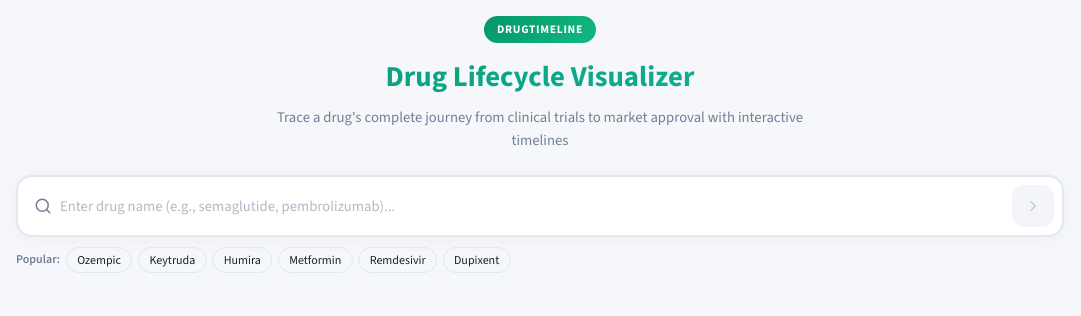
Test: DrugTimelinePage › shows autocomplete suggestions after typing 2 characters
In the dropdown with placeholder "Enter drug name (e.g., semaglutide, pembrolizumab)...": [536, 206] box [60,189,1012,222], type "Pa"
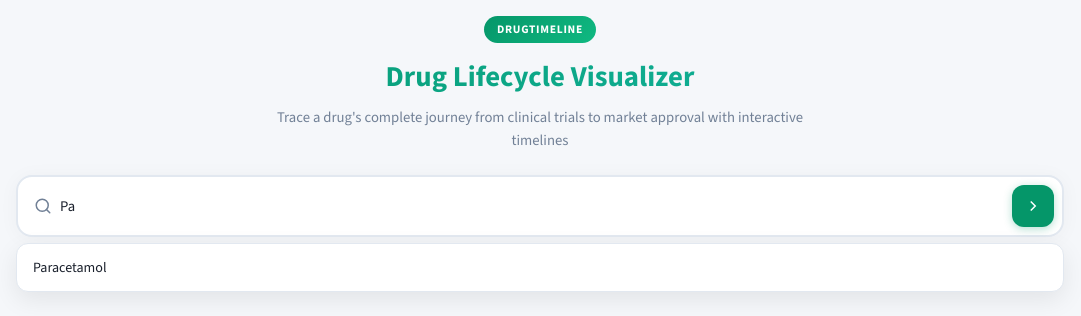
expect the list is shown: met, box [16,243,1064,292]
expect the button "Paracetamol" is shown: met, box [17,249,1063,286]
